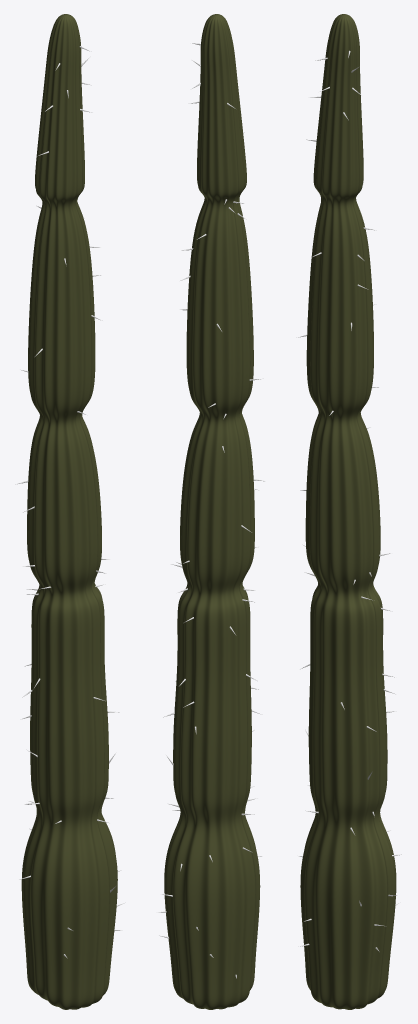
Rendered from cactustype2.1.fbx.
3 renders of one model, left to right at view 1: azimuth 30°, elevation 25°; view 2: azimuth 210°, elevation 25°; view 3: azimuth 330°, elevation 25°, orthographic.
Parts seen in each view (by area): view 1: Cylinder.002; view 2: Cylinder.002; view 3: Cylinder.002.
Part boxes in pixels (x1,y1,x2,y2): Cylinder.002: (21,14,117,1009); Cylinder.002: (164,14,260,1009); Cylinder.002: (300,14,396,1009).
Size of the model in its own units: 48.91 by 448 by 40.9.
